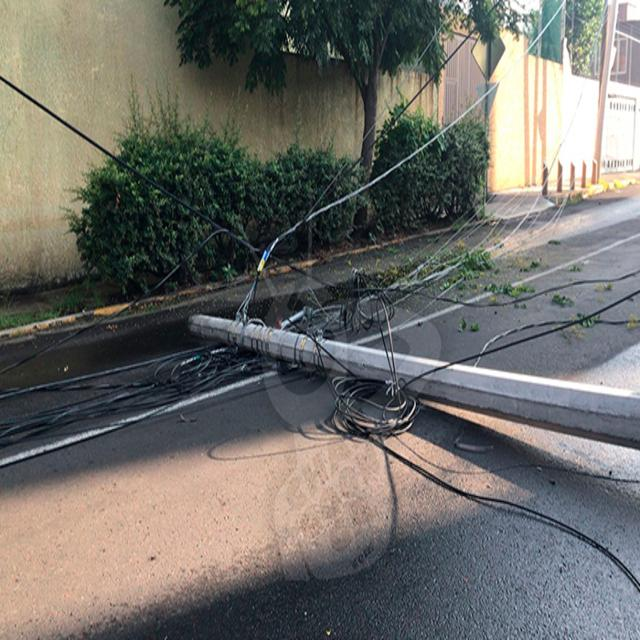Inclined Pole: (187, 311, 640, 451)
